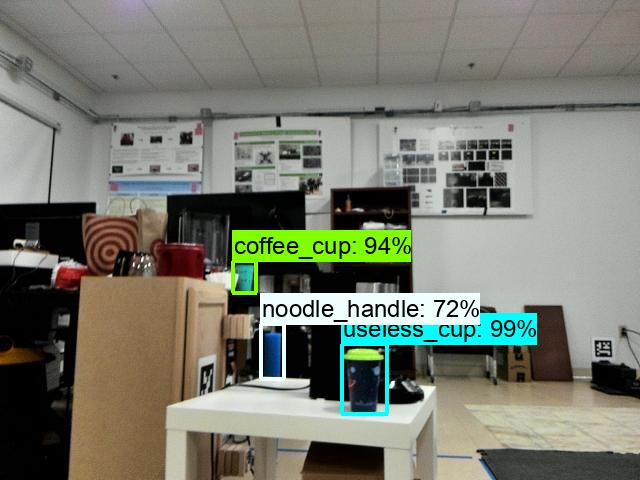coffee_cup: (234, 261, 258, 294)
noodle_handle: (260, 325, 284, 382)
useless_cup: (343, 345, 385, 416)
